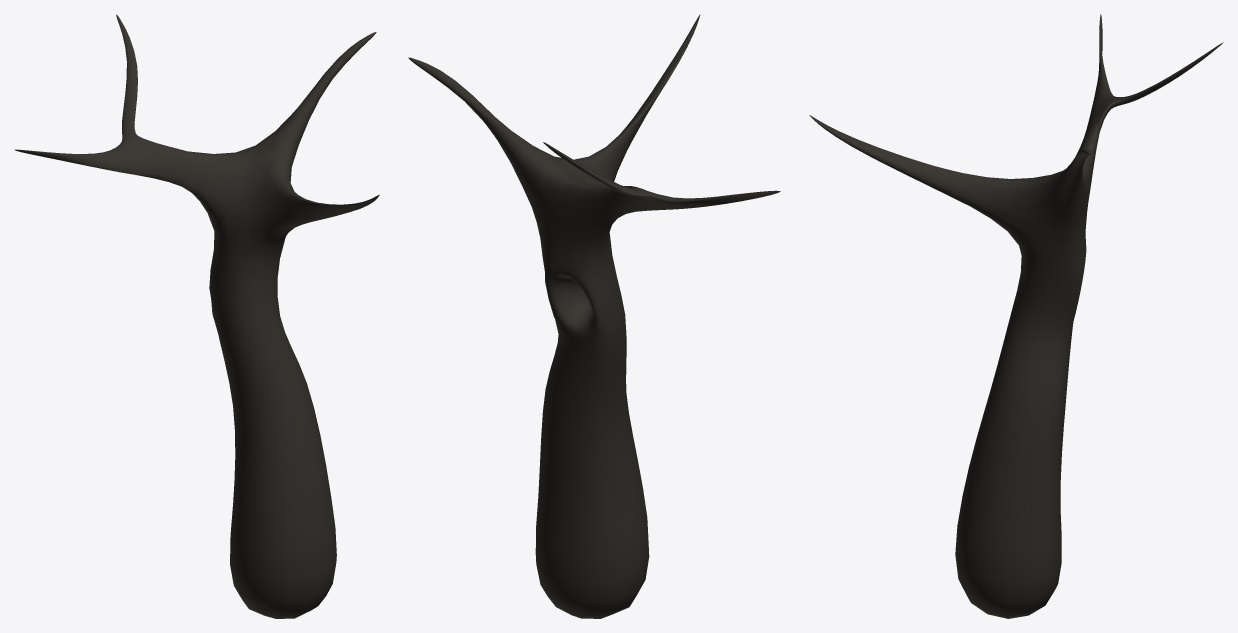
Rendered from arbre.fbx.
3 renders of one model, left to right at view 1: azimuth 30°, elevation 25°; view 2: azimuth 150°, elevation 25°; view 3: azimuth 270°, elevation 25°, orthographic. The views are drawn at different scales.
Parts seen in each view (by area): view 1: Tree; view 2: Tree; view 3: Tree.
Part boxes in pixels (<box>): Tree: <box>15,14,379,618</box>; Tree: <box>408,14,780,618</box>; Tree: <box>809,14,1223,618</box>.
Bounding box in the file's own units: 157 × 226 × 157.
Materials: 1 (1 with a texture image).
